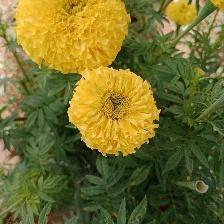marigold: (68, 66, 163, 160)
